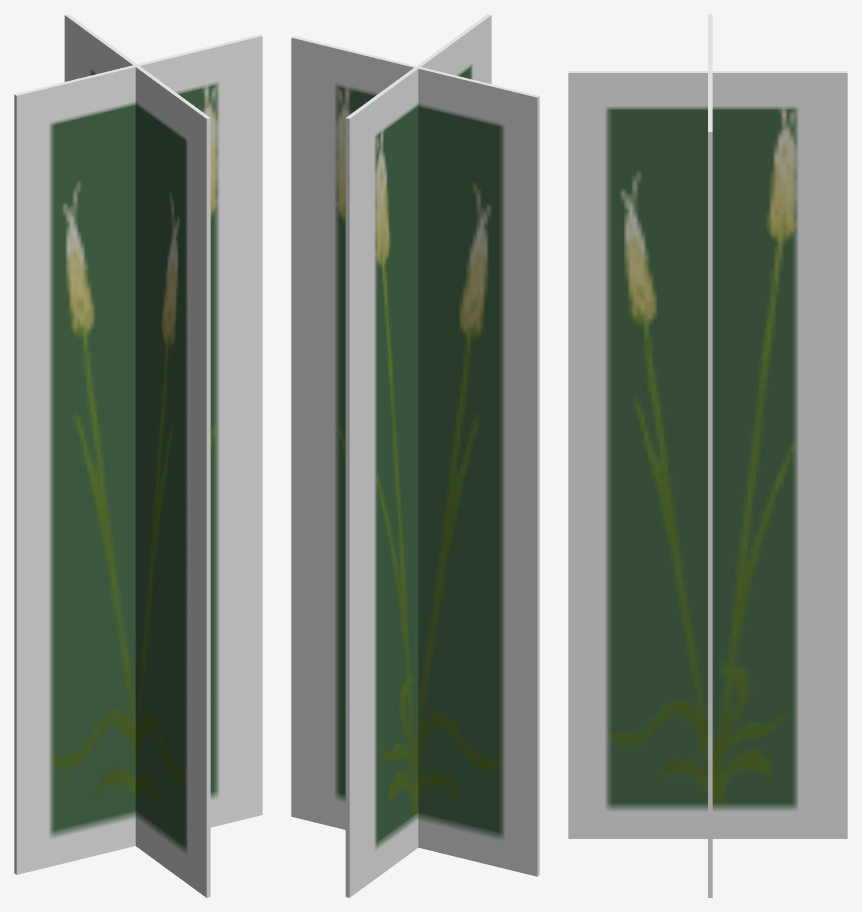
File: Flower1.fbx
3 views of the same model, side by side, from view 1: azimuth 30°, elevation 25°; view 2: azimuth 150°, elevation 25°; view 3: azimuth 270°, elevation 25° (orthographic).
Parts seen in each view (by area): view 1: n_grass_diff_0_56; view 2: n_grass_diff_0_56; view 3: n_grass_diff_0_56.
Boxes of the visible parts, left/top/right/bottom form: n_grass_diff_0_56: left=14, top=14, right=262, bottom=897; n_grass_diff_0_56: left=291, top=14, right=539, bottom=897; n_grass_diff_0_56: left=568, top=14, right=847, bottom=897.
Bounding box in the file's own units: 61.61 × 186 × 61.61.
